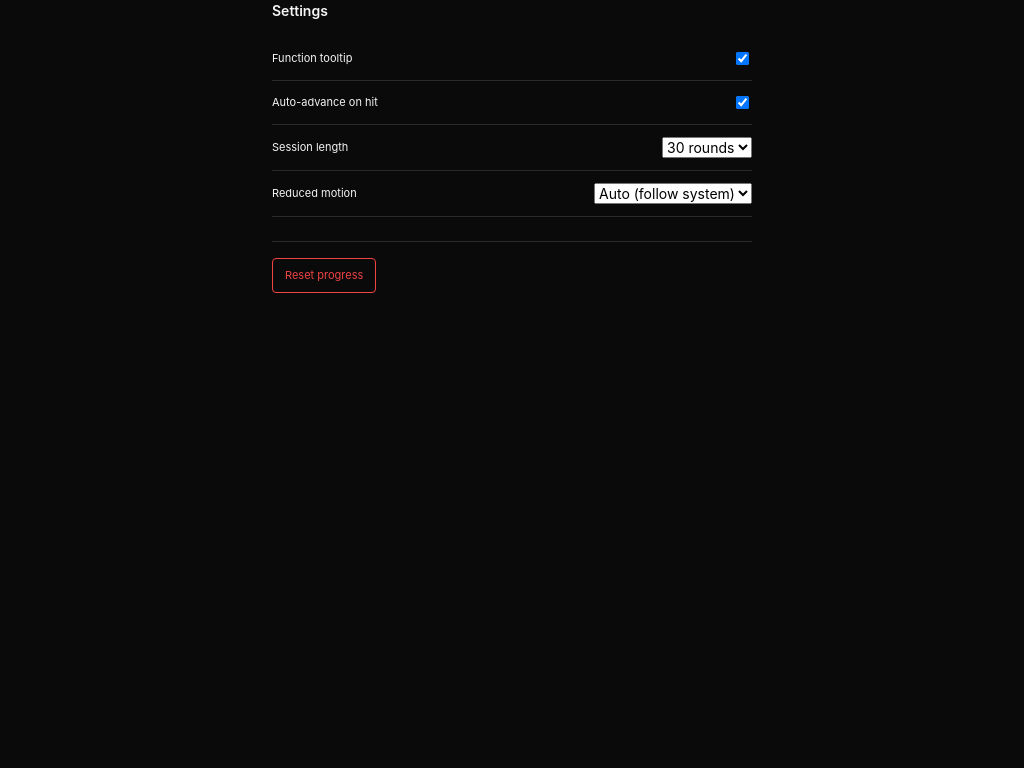
SettingsPage › opens the confirmation modal when reset is clicked
The width and height of the screenshot is (1024, 768).
What coordinates should you click on to do the following:
click the button "Reset progress"
I would click on:
 (324, 275)
Its box is [272,258,376,292].
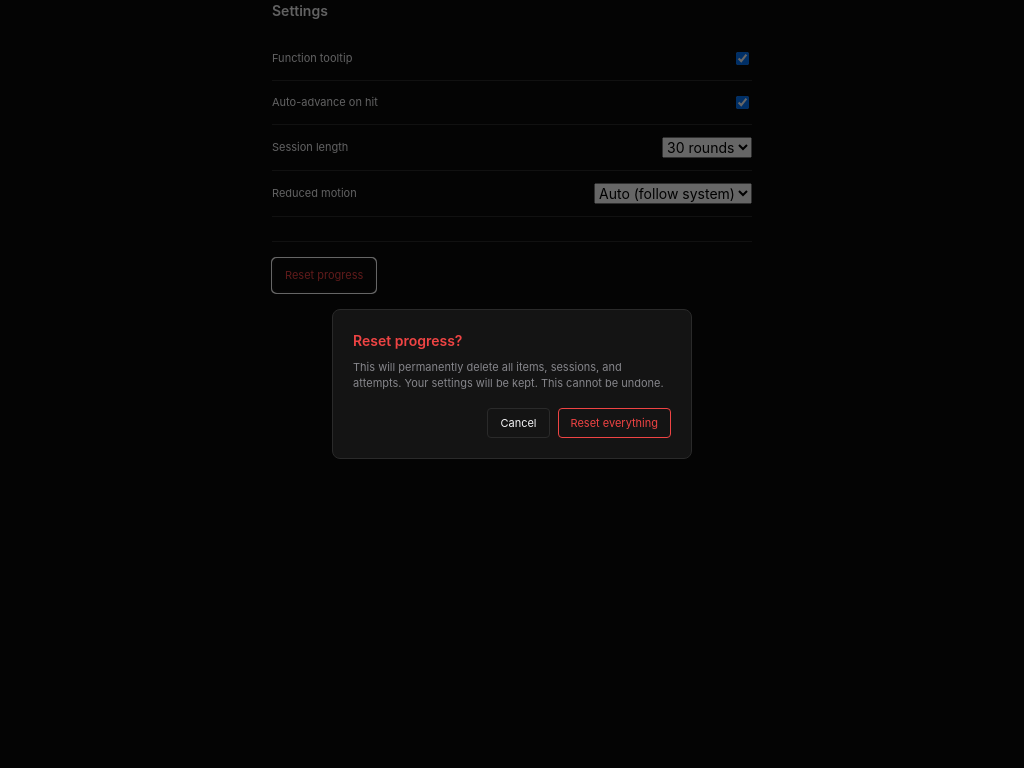
Check: the text "This will permanently delete" is shown, box [353,360,664,390]
